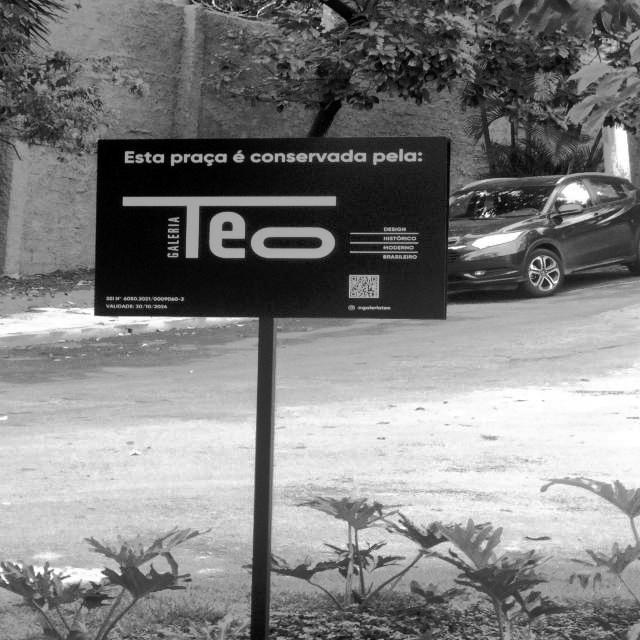qr_code: (351, 276, 378, 297)
